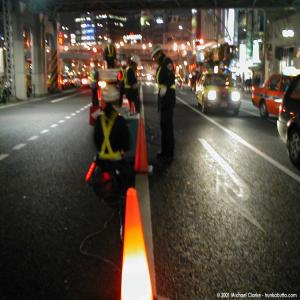white: (102, 84, 120, 112), (150, 43, 164, 63), (131, 55, 141, 69)
